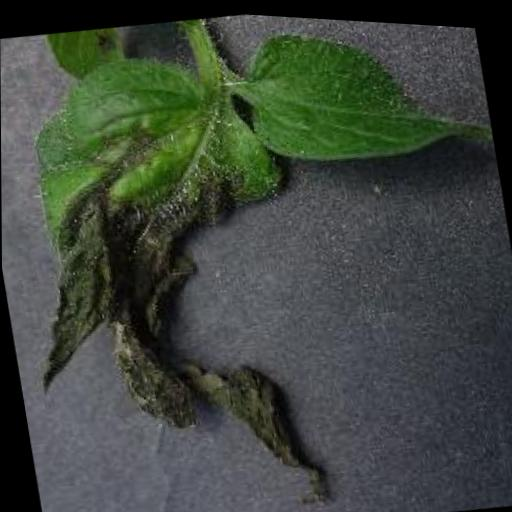Healthy: (237, 11, 479, 176)
Late Blight: (0, 28, 332, 512)
